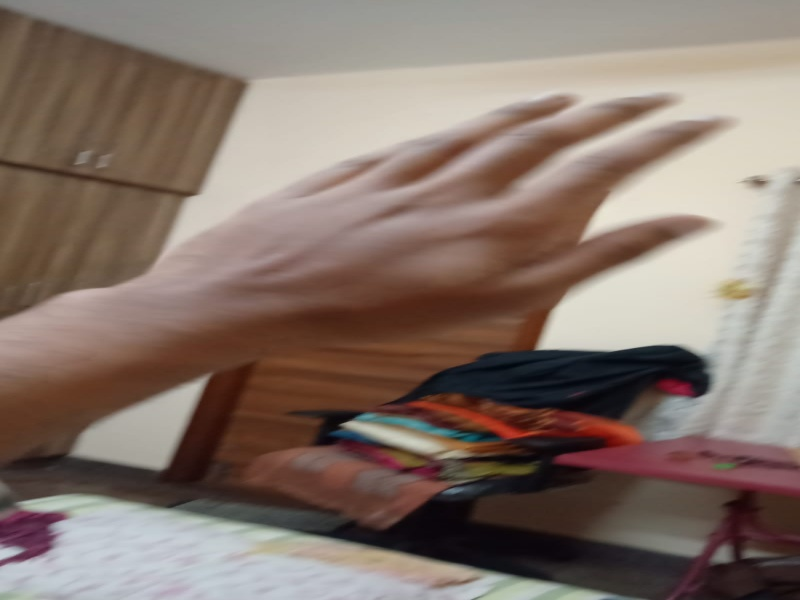Hand: (69, 81, 748, 377)
